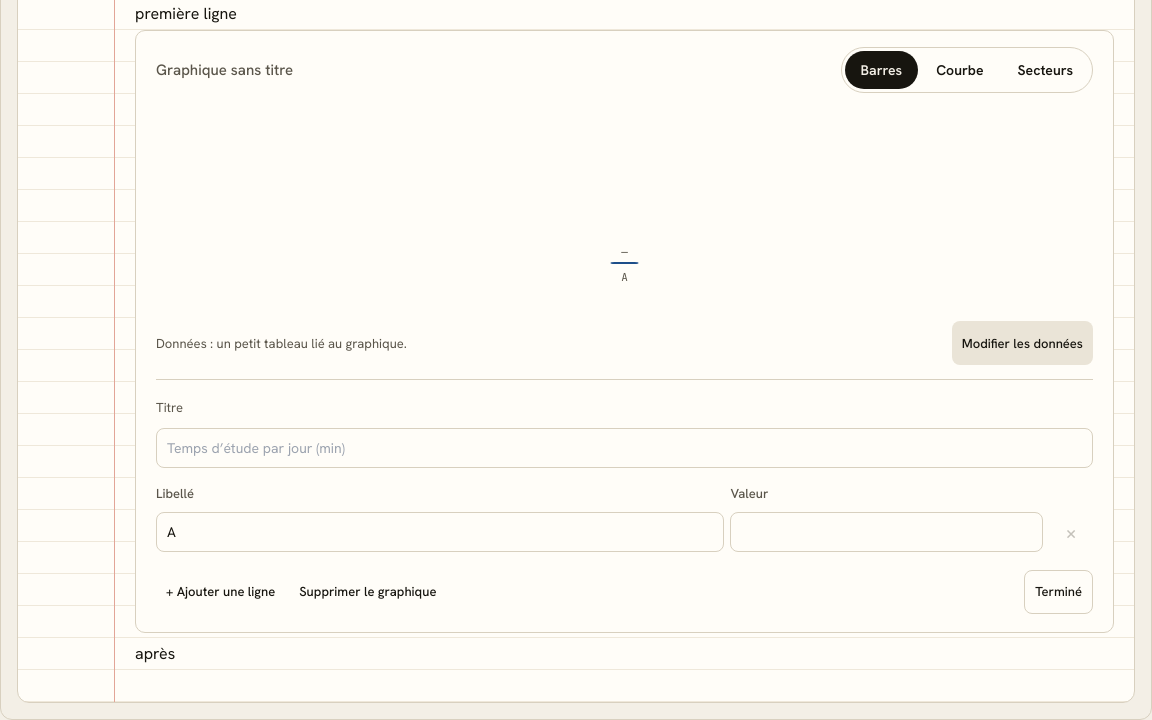
Scenario: charts in a note (YC-54) › a value that is not a number is said, and the chart waits for it
(page scrolled)
Type "-4" into the field named "Valeur, ligne 1" at x=887, y=532, box x1=730 y1=512 x2=1043 y2=552
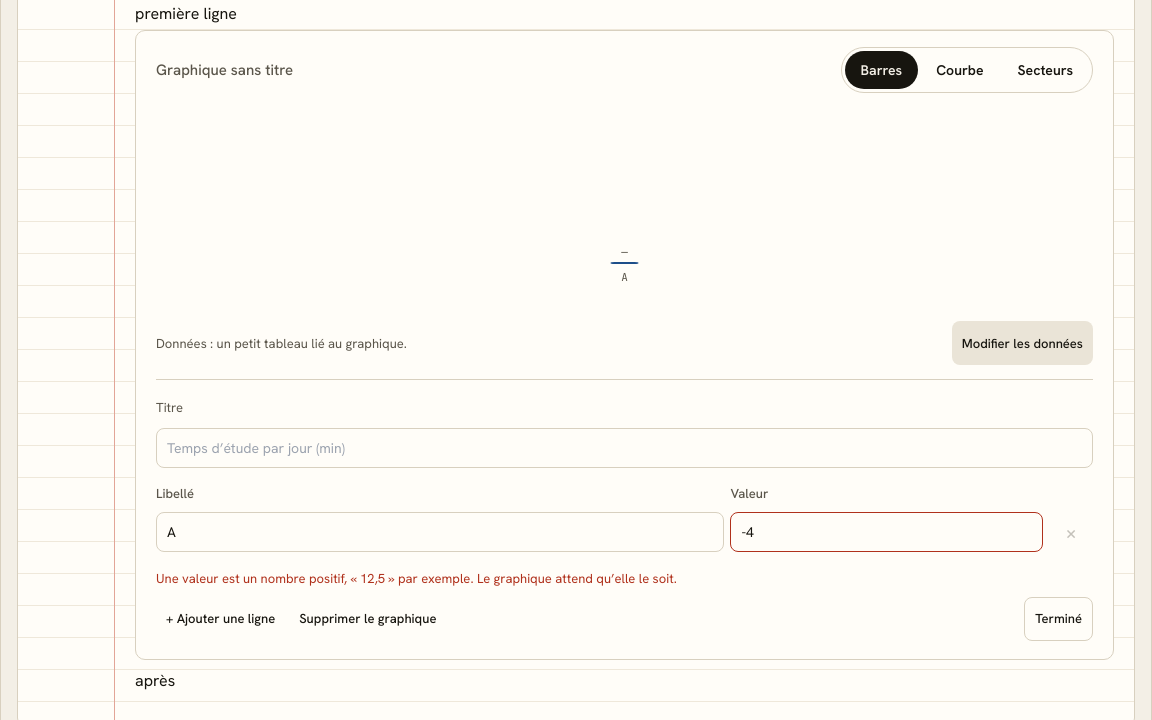
Expected: the message shows "Une valeur est un nombre positif", x1=156 y1=570 x2=677 y2=587
Replace the text in the field named "Valeur, ligne 1" with "4" at x=887, y=532, box x1=730 y1=512 x2=1043 y2=552
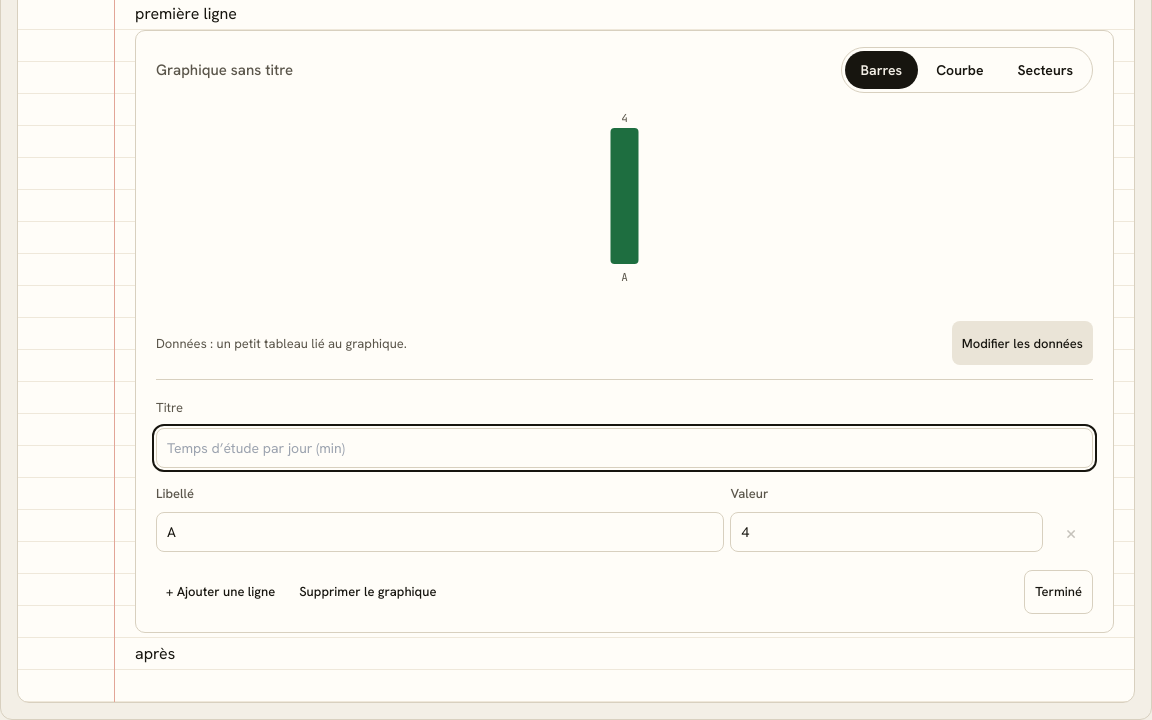
Expected: the message is gone
